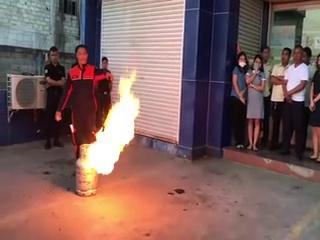Fire: (84, 70, 143, 175)
